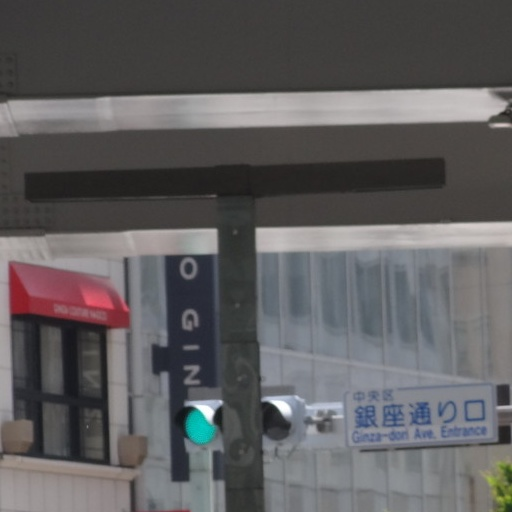Traffic_Signal_Blue: (181, 387, 315, 444)
